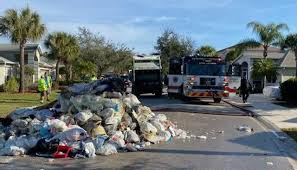garbage: (67, 81, 133, 153), (9, 109, 65, 153), (135, 110, 166, 147)
